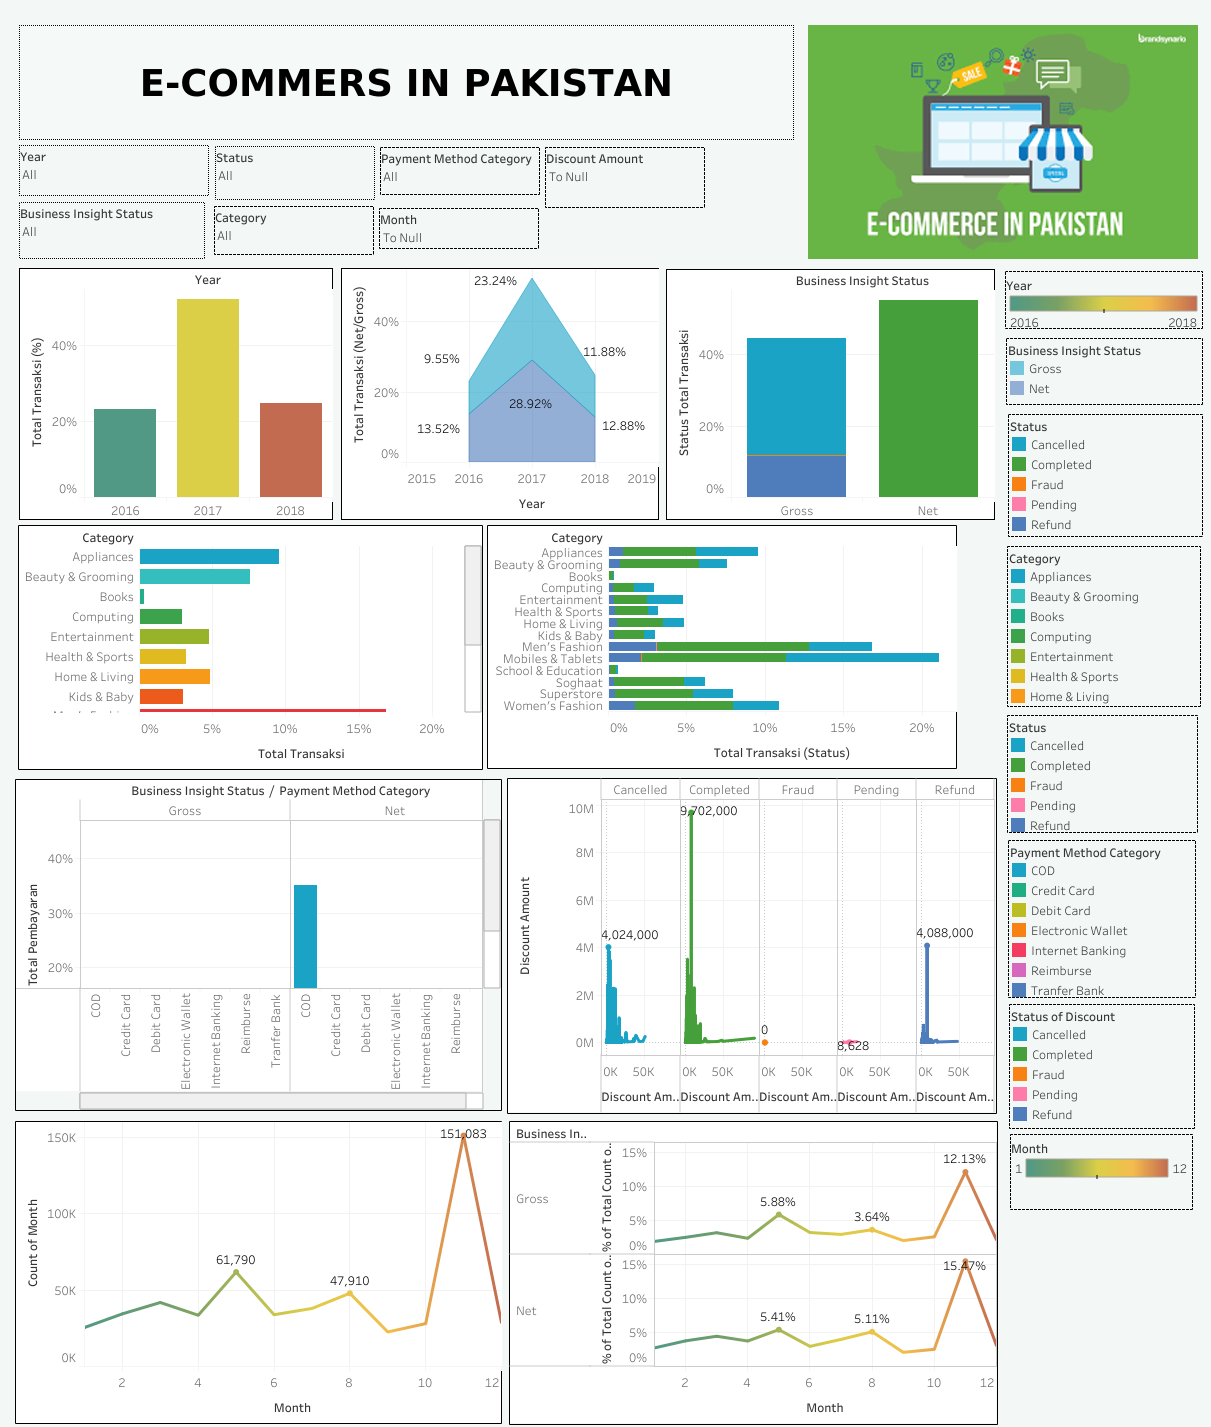

The page's visual inventory and layout, read from the dashboard file:
{"tool":"tableau","page":{"name":"Dashboard 1","canvas":[1220,1560],"ordinal":0},"visuals":[{"type":"text","box":[19,25,775,115]},{"type":"filter","title":"Sheet 1","param":"[federated.1axfcil0l5hu6z13e5y6p17bpdtk].[none:Year:ok]","box":[19,145,190,51]},{"type":"filter","title":"Sheet 3","param":"[federated.1axfcil0l5hu6z13e5y6p17bpdtk].[none:Status:nk]","box":[215,146,160,54]},{"type":"filter","title":"Sheet 6","param":"[federated.1axfcil0l5hu6z13e5y6p17bpdtk].[none:Payment_Method_Category:nk]","box":[380,147,160,48]},{"type":"filter","title":"Sheet 7","param":"[federated.1axfcil0l5hu6z13e5y6p17bpdtk].[none:Discount_Amount:qk]","box":[545,147,160,61]},{"type":"filter","title":"Sheet 2","param":"[federated.1axfcil0l5hu6z13e5y6p17bpdtk].[none:Business_Insight_Status:nk]","box":[19,202,186,57]},{"type":"filter","title":"Sheet 4","param":"[federated.1axfcil0l5hu6z13e5y6p17bpdtk].[none:Category:nk]","box":[214,206,160,49]},{"type":"filter","title":"Sheet 9","param":"[federated.1axfcil0l5hu6z13e5y6p17bpdtk].[none:Month:qk]","box":[379,208,160,41]},{"type":"worksheet","title":"Sheet 3","mark":"Automatic","cols":["Business_Insight_Status"],"box":[679,264,329,251]},{"type":"worksheet","title":"Sheet 1","mark":"Automatic","rows":["Year"],"cols":["Year"],"box":[17,265,314,252]},{"type":"worksheet","title":"Sheet 2","mark":"Area","rows":["Business_Insight_Status"],"cols":["Year"],"box":[344,265,318,252]},{"type":"worksheet","title":"Sheet 4","mark":"Automatic","rows":["Business_Insight_Status"],"cols":["Category"],"box":[18,525,372,336]},{"type":"worksheet","title":"Sheet 5","mark":"Automatic","rows":["Status"],"cols":["Category"],"box":[401,525,514,337]},{"type":"worksheet","title":"Sheet 6","mark":"Automatic","rows":["Payment_Method_Category"],"cols":["Business_Insight_Status","Payment_Method_Category"],"box":[17,870,523,378]},{"type":"worksheet","title":"Sheet 7","mark":"Automatic","rows":["Discount_Amount"],"cols":["Status","Discount_Amount"],"box":[554,870,634,379]},{"type":"worksheet","title":"Sheet 8","mark":"Automatic","rows":["Month"],"cols":["Month"],"box":[18,1257,550,296]},{"type":"worksheet","title":"Sheet 9","mark":"Automatic","rows":["Business_Insight_Status","Business_Insight_Status"],"cols":["Month"],"box":[580,1257,607,296]}]}

Visuals, with their boxes on the page's 1220x1560 design canvas (x1, y1, x2, y2). These are canvas units, not pixel positions in the 1211x1427 screenshot, which may show the page scaled, cropped or inside an application window:
text: rect(19, 25, 794, 140)
"Sheet 1" filter: rect(19, 145, 209, 196)
"Sheet 3" filter: rect(215, 146, 375, 200)
"Sheet 6" filter: rect(380, 147, 540, 195)
"Sheet 7" filter: rect(545, 147, 705, 208)
"Sheet 2" filter: rect(19, 202, 205, 259)
"Sheet 4" filter: rect(214, 206, 374, 255)
"Sheet 9" filter: rect(379, 208, 539, 249)
"Sheet 3" worksheet: rect(679, 264, 1008, 515)
"Sheet 1" worksheet: rect(17, 265, 331, 517)
"Sheet 2" worksheet (Area marks): rect(344, 265, 662, 517)
"Sheet 4" worksheet: rect(18, 525, 390, 861)
"Sheet 5" worksheet: rect(401, 525, 915, 862)
"Sheet 6" worksheet: rect(17, 870, 540, 1248)
"Sheet 7" worksheet: rect(554, 870, 1188, 1249)
"Sheet 8" worksheet: rect(18, 1257, 568, 1553)
"Sheet 9" worksheet: rect(580, 1257, 1187, 1553)
